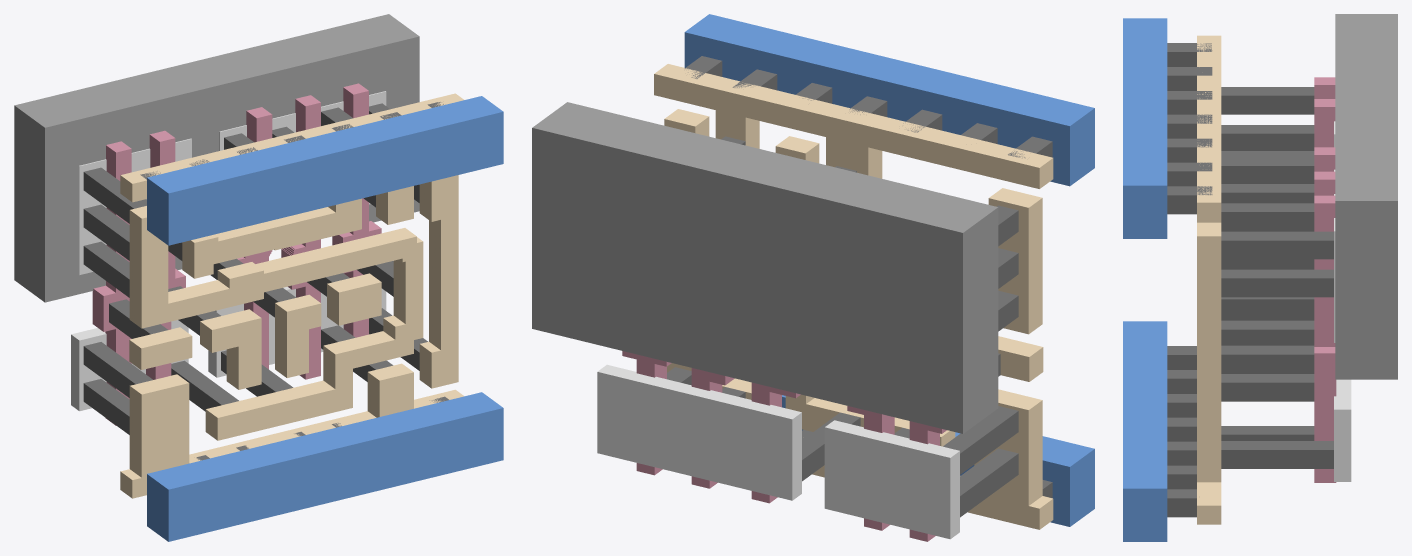
Rendered from sky130_fd_sc_hd__a22o_1.gds.gltf.
3 renders of one model, left to right at view 1: azimuth 30°, elevation 25°; view 2: azimuth 150°, elevation 25°; view 3: azimuth 270°, elevation 25°, orthographic. The views are drawn at different scales.
Visible parts, largest first — view 1: sky130_fd_sc_hd__a22o_1_li1, sky130_fd_sc_hd__a22o_1_met1, sky130_fd_sc_hd__a22o_1_nwell, sky130_fd_sc_hd__a22o_1_licon, sky130_fd_sc_hd__a22o_1_poly, sky130_fd_sc_hd__a22o_1_diff, sky130_fd_sc_hd__a22o_1_mcon; view 2: sky130_fd_sc_hd__a22o_1_nwell, sky130_fd_sc_hd__a22o_1_li1, sky130_fd_sc_hd__a22o_1_diff, sky130_fd_sc_hd__a22o_1_met1, sky130_fd_sc_hd__a22o_1_licon, sky130_fd_sc_hd__a22o_1_poly, sky130_fd_sc_hd__a22o_1_mcon; view 3: sky130_fd_sc_hd__a22o_1_licon, sky130_fd_sc_hd__a22o_1_nwell, sky130_fd_sc_hd__a22o_1_met1, sky130_fd_sc_hd__a22o_1_li1, sky130_fd_sc_hd__a22o_1_mcon, sky130_fd_sc_hd__a22o_1_poly, sky130_fd_sc_hd__a22o_1_diff.
Boxes of the visible parts, x1,y1,x2,y2 form: sky130_fd_sc_hd__a22o_1_li1: (120,93,463,498); sky130_fd_sc_hd__a22o_1_met1: (147,96,503,541); sky130_fd_sc_hd__a22o_1_nwell: (14,14,419,302); sky130_fd_sc_hd__a22o_1_licon: (83,103,427,434); sky130_fd_sc_hd__a22o_1_poly: (92,83,381,425); sky130_fd_sc_hd__a22o_1_diff: (71,91,386,411); sky130_fd_sc_hd__a22o_1_mcon: (140,102,448,460); sky130_fd_sc_hd__a22o_1_nwell: (532,102,998,433); sky130_fd_sc_hd__a22o_1_li1: (654,64,1053,529); sky130_fd_sc_hd__a22o_1_diff: (597,364,959,539); sky130_fd_sc_hd__a22o_1_met1: (684,14,1094,526); sky130_fd_sc_hd__a22o_1_licon: (667,136,1018,517); sky130_fd_sc_hd__a22o_1_poly: (622,351,946,541); sky130_fd_sc_hd__a22o_1_mcon: (684,56,1052,498); sky130_fd_sc_hd__a22o_1_licon: (1221,87,1333,468); sky130_fd_sc_hd__a22o_1_nwell: (1335,14,1397,379); sky130_fd_sc_hd__a22o_1_met1: (1123,18,1167,541); sky130_fd_sc_hd__a22o_1_li1: (1197,35,1221,524); sky130_fd_sc_hd__a22o_1_mcon: (1167,43,1212,517); sky130_fd_sc_hd__a22o_1_poly: (1314,77,1336,482); sky130_fd_sc_hd__a22o_1_diff: (1334,121,1351,481).
Size of the model in its own units: 3.6 by 3.2 by 2.24.
